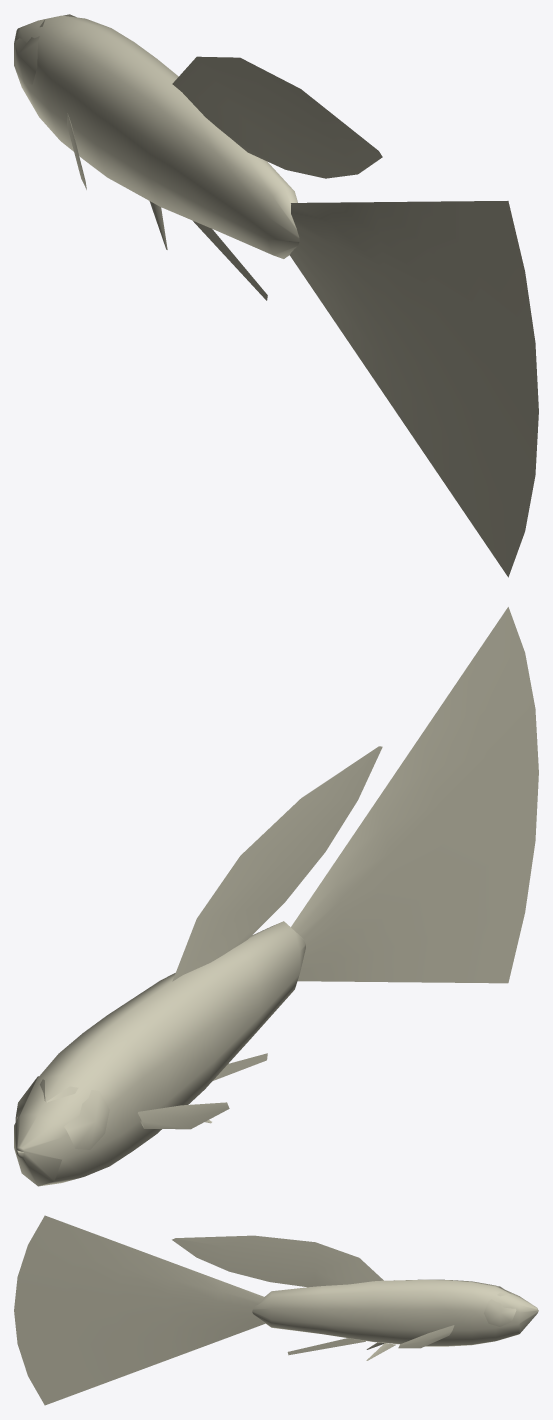
The model's file is guppy_male_lo.glb.
The picture shows the model from 3 angles, top to bottom: view 1: azimuth 30°, elevation 25°; view 2: azimuth 150°, elevation 25°; view 3: azimuth 270°, elevation 25°; orthographic projection. The views are drawn at different scales.
Visible parts, largest first — view 1: guppy_male_lo; view 2: guppy_male_lo; view 3: guppy_male_lo.
Part boxes in pixels (x1,y1,x2,y2): guppy_male_lo: (14,14,538,577); guppy_male_lo: (14,607,538,1186); guppy_male_lo: (14,1215,538,1405).
Bounding box in the file's own units: 0.00631 × 0.0159 × 0.0399.
